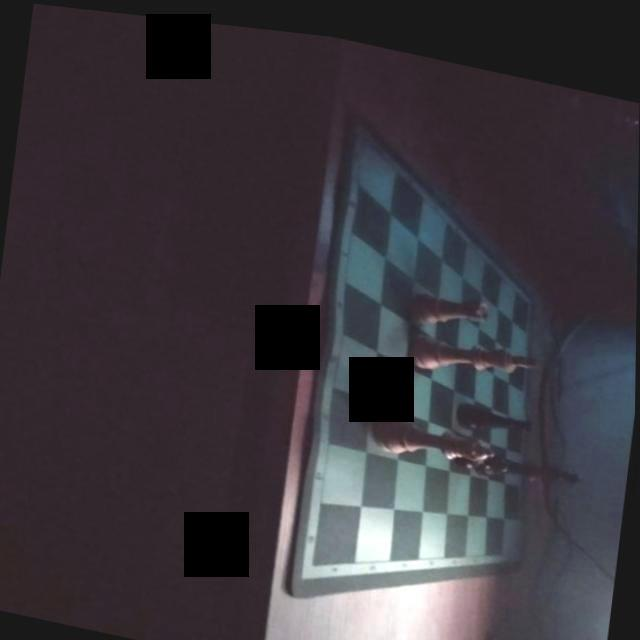chess-table-corners: (516, 280, 541, 302), (508, 536, 530, 558), (304, 548, 326, 568), (354, 120, 374, 142)
